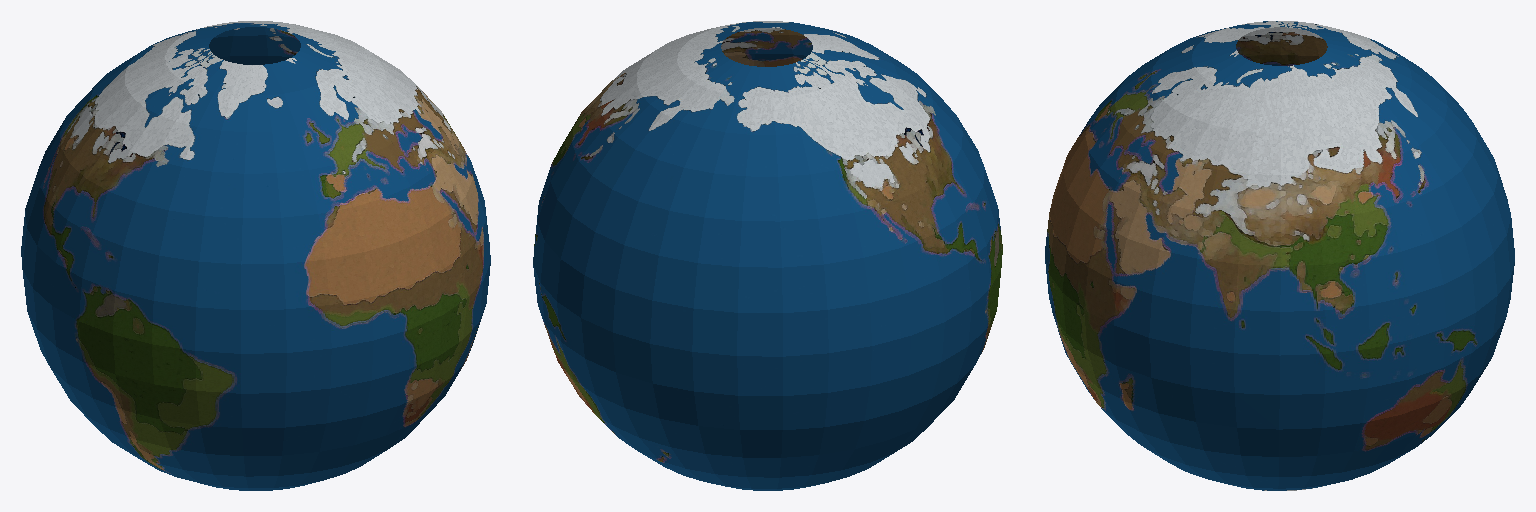
3 renders of one model, left to right at view 1: azimuth 30°, elevation 25°; view 2: azimuth 150°, elevation 25°; view 3: azimuth 270°, elevation 25°, orthographic.
Parts seen in each view (by area): view 1: globo2:polySurface515Enganche1; view 2: globo2:polySurface515Enganche1; view 3: globo2:polySurface515Enganche1.
Part boxes in pixels (x1,y1,x2,y2): globo2:polySurface515Enganche1: (21, 21, 490, 490); globo2:polySurface515Enganche1: (533, 21, 1002, 490); globo2:polySurface515Enganche1: (1045, 21, 1514, 490).
Size of the model in its own units: 0.1288 by 0.1265 by 0.1288.
1 materials, 1 textured.